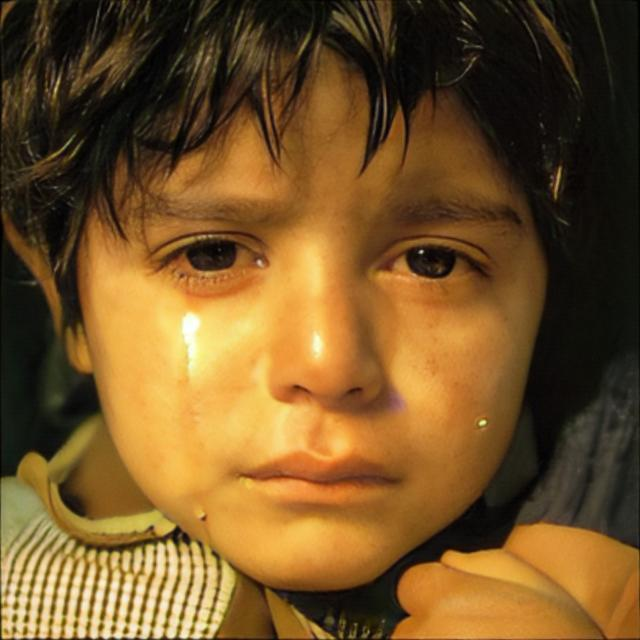sad: (76, 23, 554, 592)
